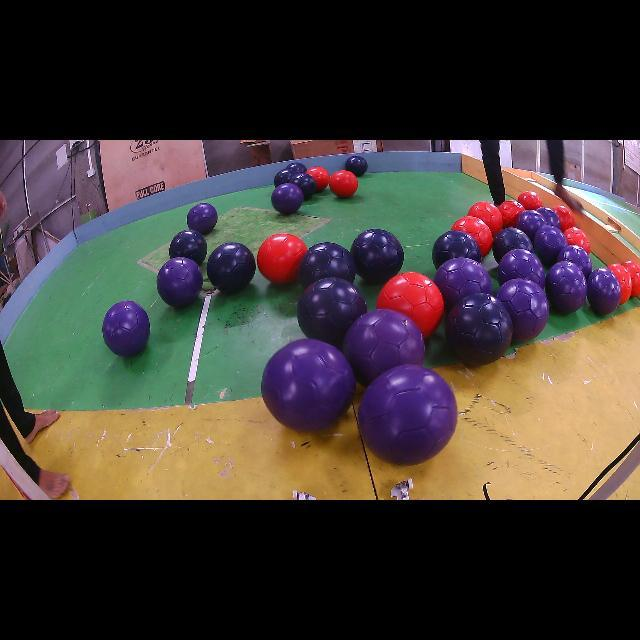B: (298, 278, 368, 349), (445, 292, 512, 365), (350, 229, 404, 284), (299, 242, 356, 288), (206, 242, 256, 294), (432, 230, 481, 268), (492, 228, 534, 262), (169, 229, 208, 265), (290, 172, 316, 200), (345, 156, 368, 176), (274, 169, 296, 188), (286, 162, 308, 172)
P: (358, 365, 458, 465), (261, 339, 356, 431), (342, 309, 425, 386), (496, 279, 549, 342), (434, 258, 492, 309), (102, 300, 150, 356), (156, 258, 202, 308), (545, 261, 588, 314), (498, 249, 545, 289), (586, 268, 621, 315), (534, 225, 568, 265), (558, 245, 592, 279), (271, 182, 304, 215), (516, 210, 548, 242), (186, 202, 218, 234), (536, 206, 561, 229)
R: (378, 272, 444, 338), (256, 234, 308, 284), (451, 216, 492, 257), (468, 201, 502, 238), (608, 264, 631, 305), (329, 170, 359, 198), (499, 200, 525, 227), (564, 228, 590, 254), (622, 260, 640, 296), (306, 166, 330, 191), (552, 205, 575, 231), (518, 191, 542, 210)
